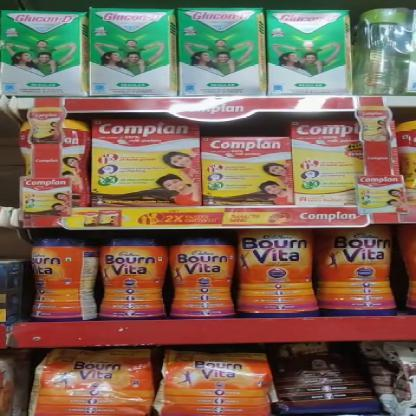Complan Kesar Badam: (293, 123, 363, 206)
Complan Royal Chocolate: (92, 118, 202, 207), (206, 139, 294, 204)
